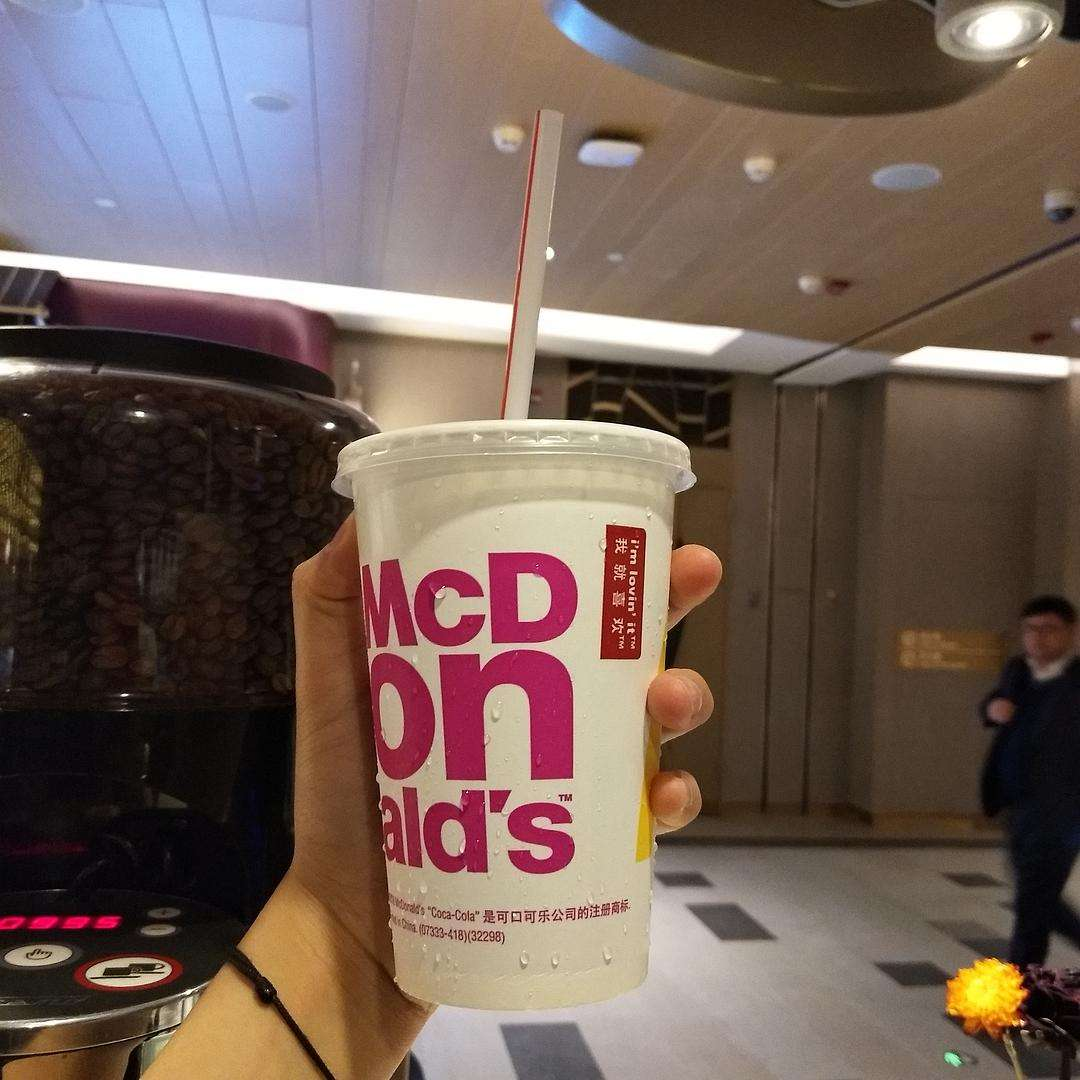no-phone: (281, 416, 728, 1030)
